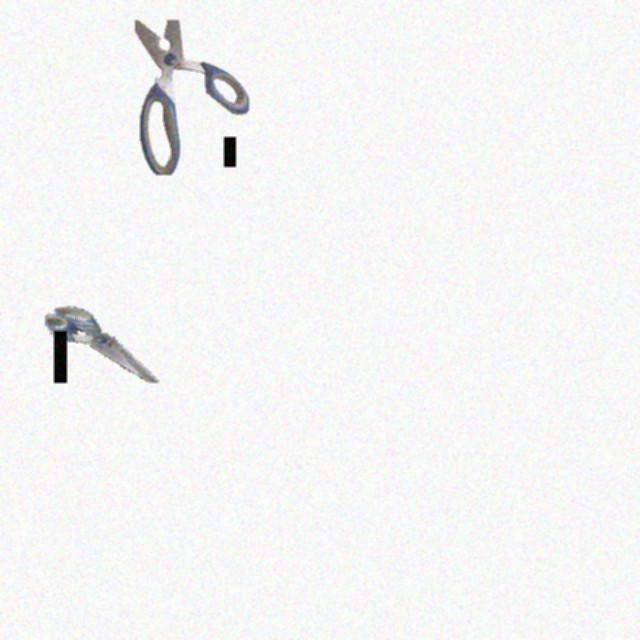scissors: (135, 20, 249, 175), (45, 306, 159, 383)
